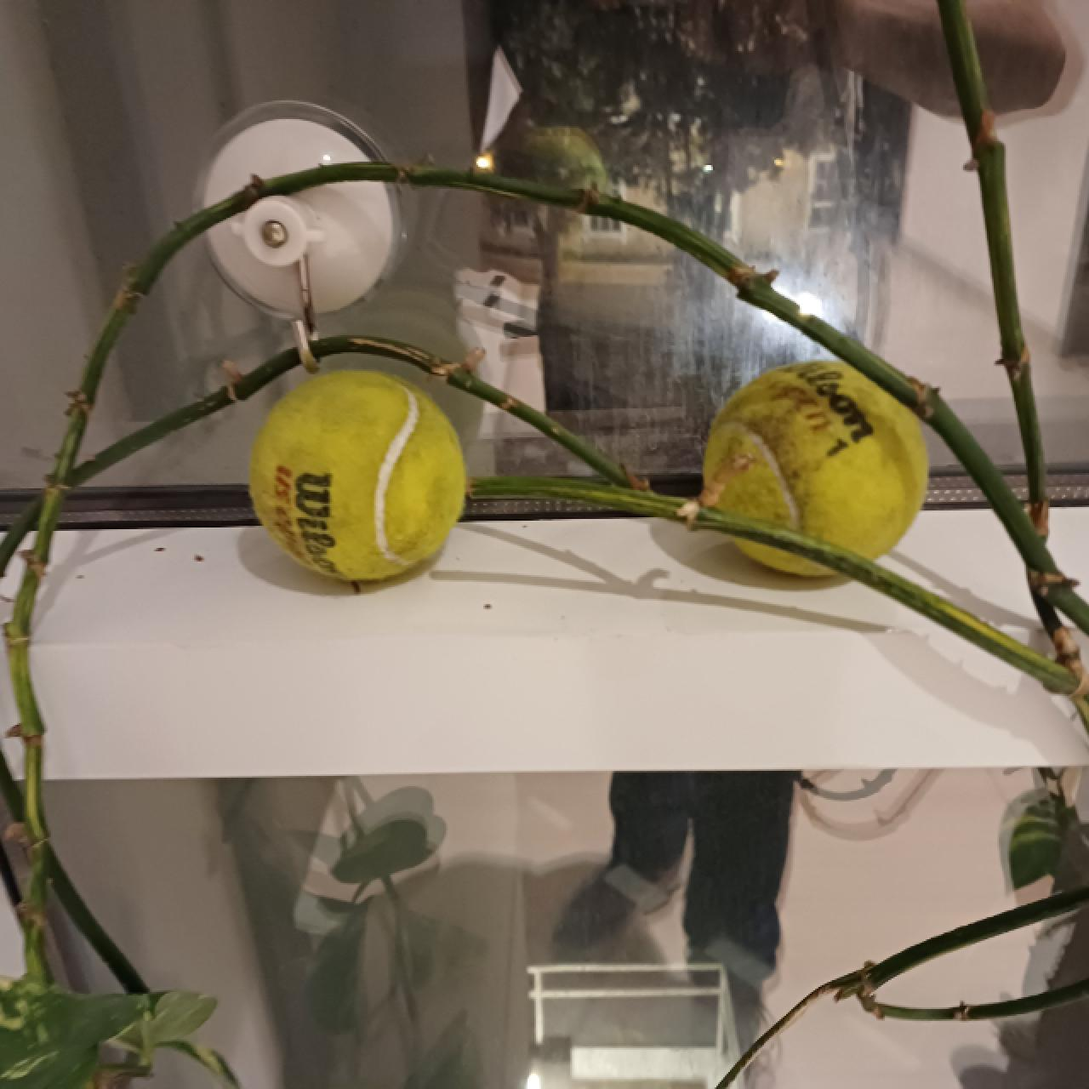tennis-ball: (704, 359, 928, 580), (247, 368, 466, 583)
